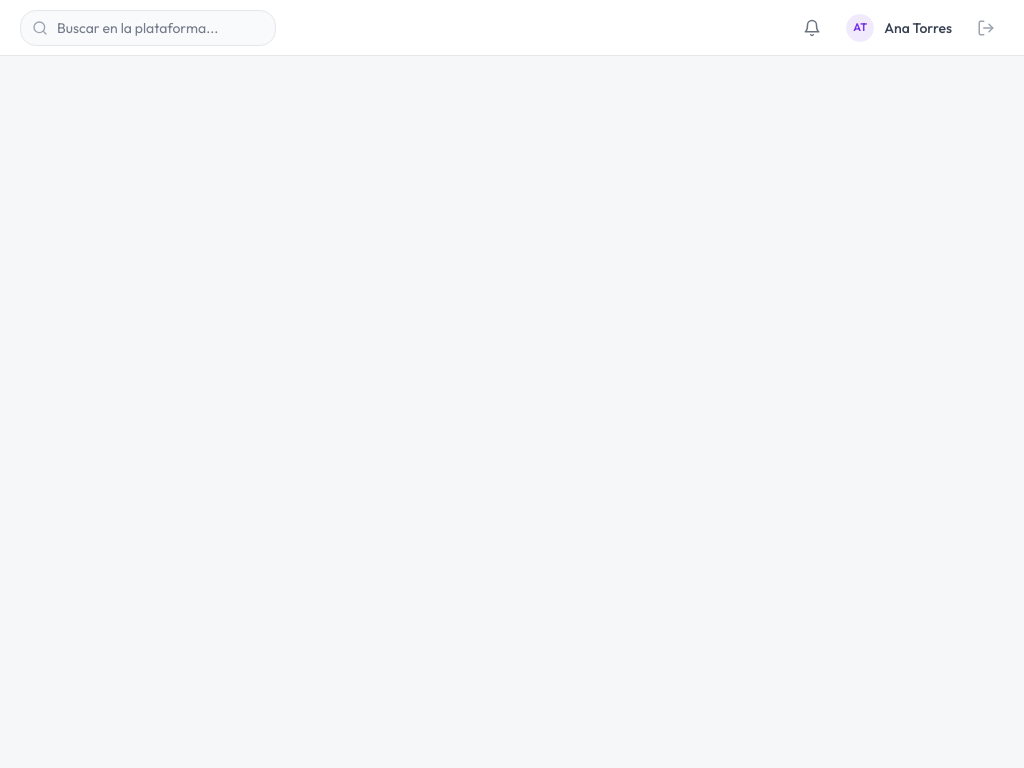
it: AppLayout / AppSidebar en español › sin notificaciones lo dice
Click the button named "Notificaciones". click: (812, 28)
box: x1=794 y1=10 x2=830 y2=46
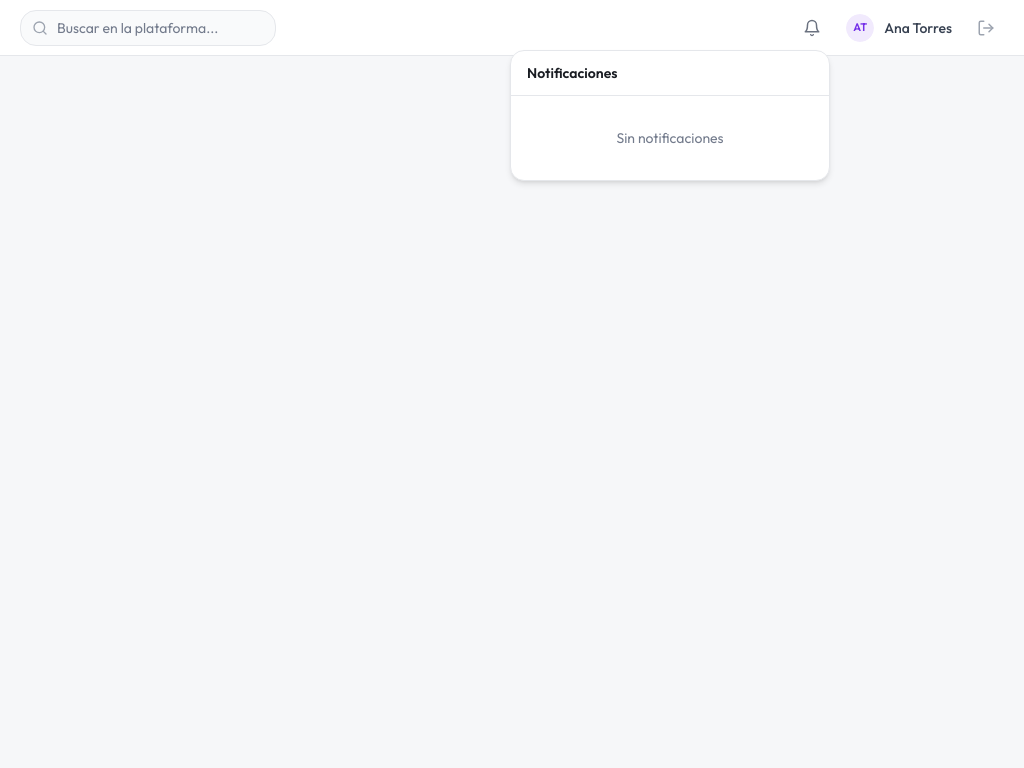
Result: the text "Sin notificaciones" is shown at x1=616 y1=129 x2=724 y2=147
